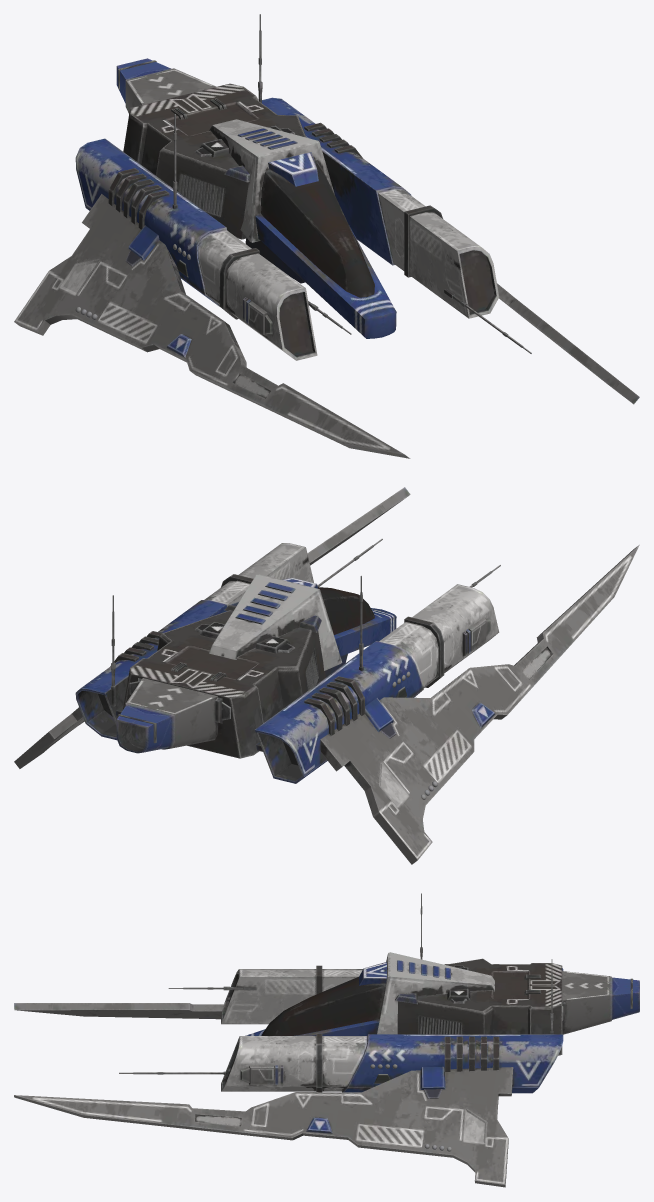
The model's file is Striker.glb.
The picture shows the model from 3 angles, top to bottom: view 1: azimuth 30°, elevation 25°; view 2: azimuth 150°, elevation 25°; view 3: azimuth 270°, elevation 25°; orthographic projection. The views are drawn at different scales.
Parts seen in each view (by area): view 1: Striker; view 2: Striker; view 3: Striker.
Boxes of the visible parts, left/top/right/bottom form: Striker: left=14, top=14, right=639, bottom=458; Striker: left=14, top=487, right=639, bottom=864; Striker: left=14, top=893, right=639, bottom=1187.
Bounding box in the file's own units: 5.03 × 2.68 × 8.43.
Materials: 1 (1 with a texture image).
